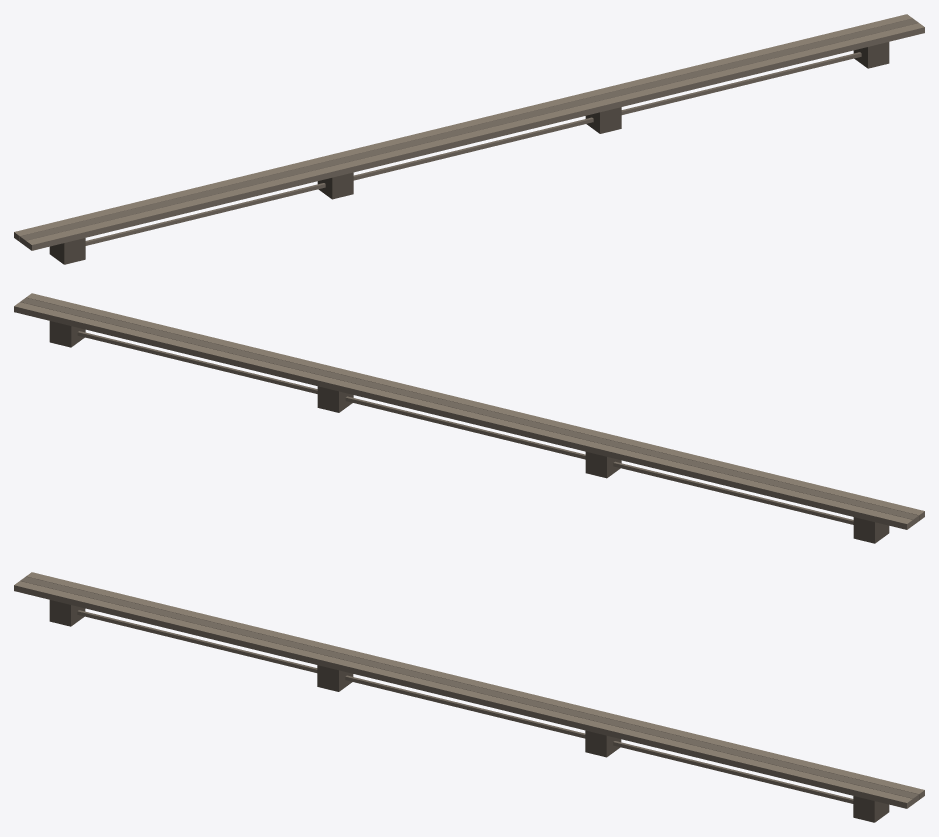
File: bench.glb
The picture shows the model from 3 angles, top to bottom: view 1: azimuth 30°, elevation 25°; view 2: azimuth 150°, elevation 25°; view 3: azimuth 330°, elevation 25°; orthographic projection.
Parts seen in each view (by area): view 1: bench; view 2: bench; view 3: bench.
Part boxes in pixels (box(x1,y1,x2,y2)): bench: box(14, 14, 924, 264); bench: box(14, 293, 924, 543); bench: box(14, 572, 924, 822).
Bounding box in the file's own units: 14.4 × 0.45 × 0.5.
